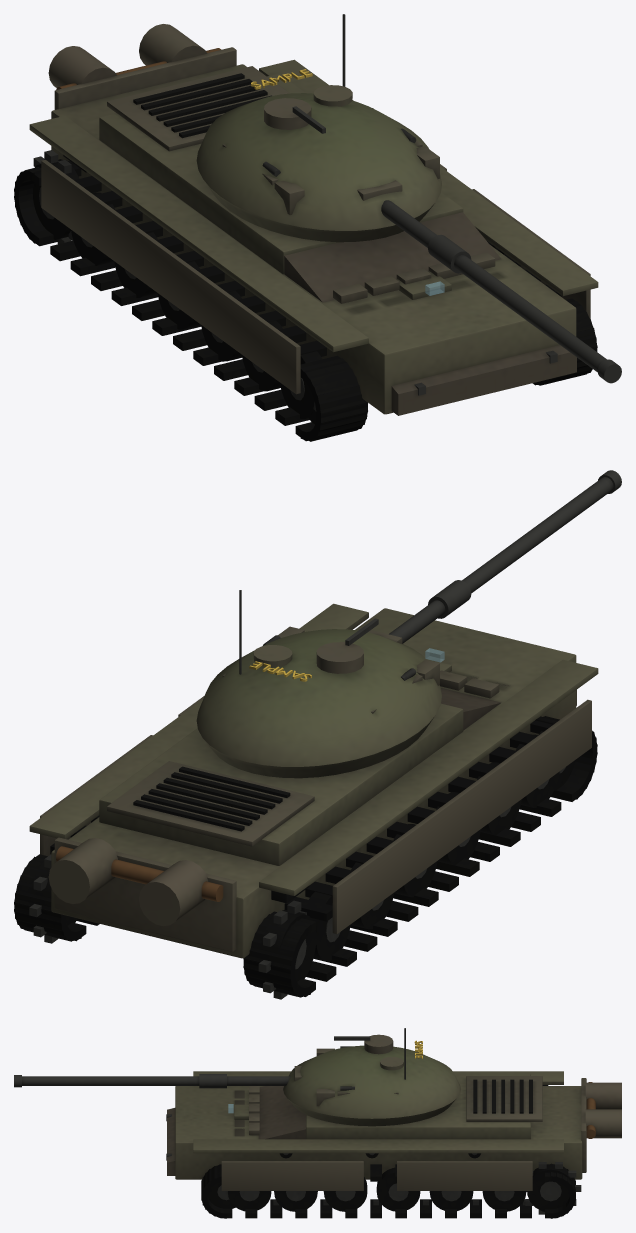
File: sphere-mbt.glb
The picture shows the model from 3 angles, top to bottom: view 1: azimuth 30°, elevation 25°; view 2: azimuth 150°, elevation 25°; view 3: azimuth 270°, elevation 25°; orthographic projection. The views are drawn at different scales.
Visible parts, largest first — view 1: hull_lower; view 2: hull_lower; view 3: hull_lower.
Part boxes in pixels (x1,y1,x2,y2): hull_lower: (14, 14, 621, 441); hull_lower: (14, 470, 621, 999); hull_lower: (14, 1028, 621, 1218).
Size of the model in its own units: 3.15 by 2.78 by 9.18.
Materials: 3 (1 with a texture image).
